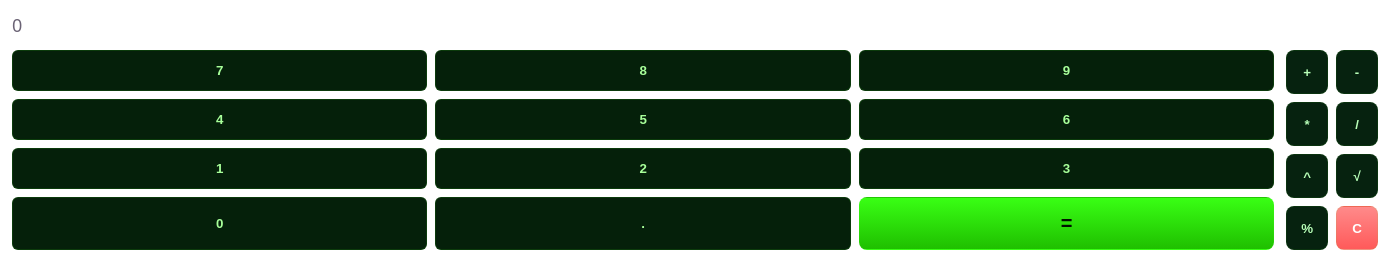
it: TraditionalCalculator › shows ERR on invalid sqrt input
Click the button "-": (1357, 72) x1=1336 y1=50 x2=1378 y2=94
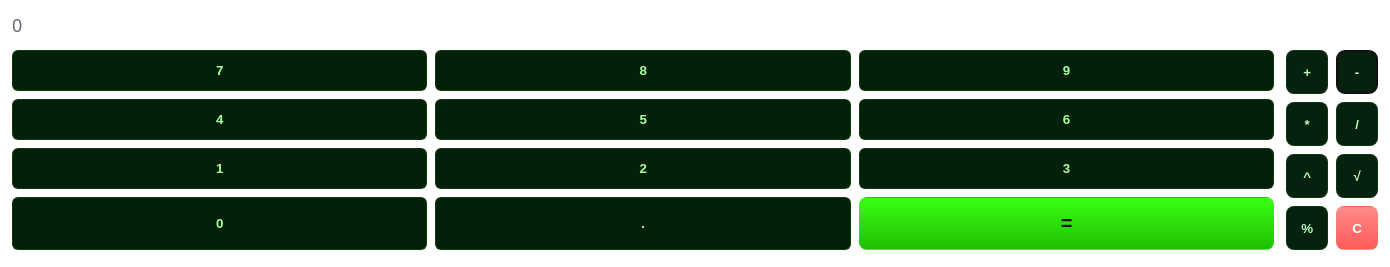
Click the button "1": (220, 169) x1=12 y1=148 x2=427 y2=189
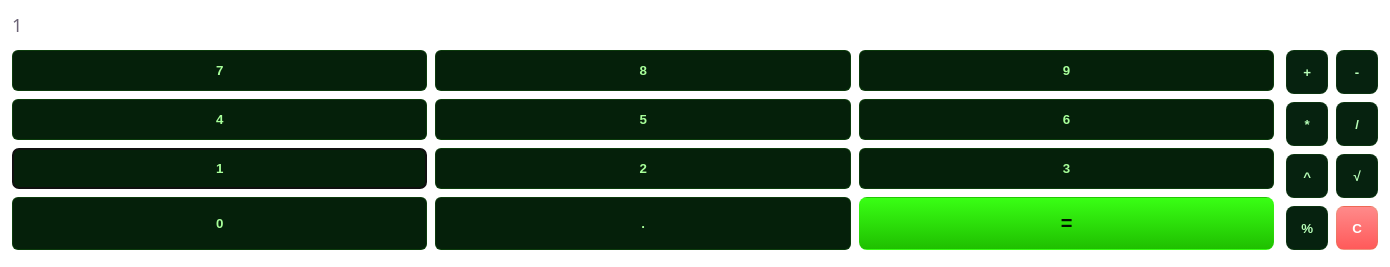
Click the button "=": (1066, 224) x1=859 y1=197 x2=1274 y2=250
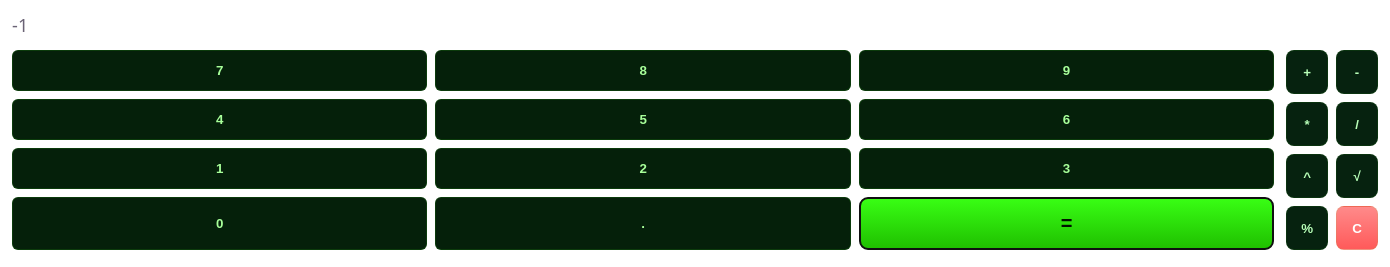
Click the button "√": (1357, 176) x1=1336 y1=154 x2=1378 y2=198
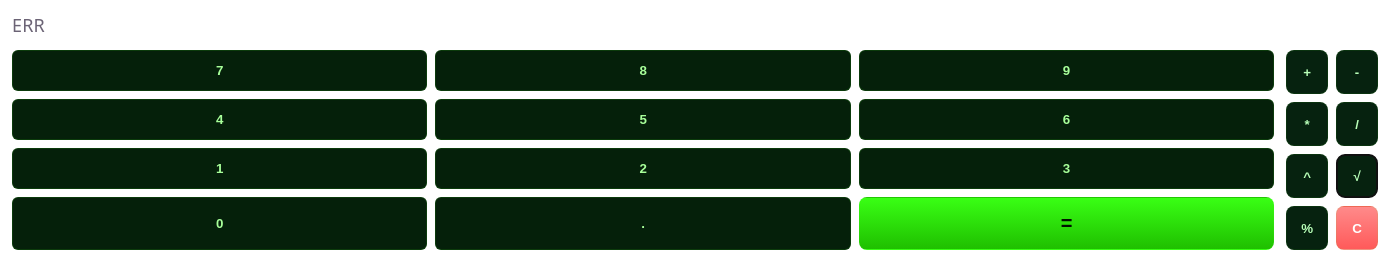
Check: the message reads "ERR", box x1=12 y1=13 x2=45 y2=37
